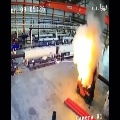fire: (73, 36, 92, 84)
